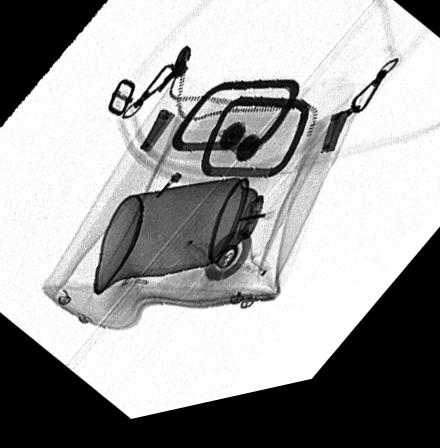Sprayer: (92, 183, 292, 299)
